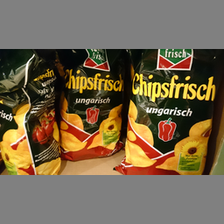chips: (127, 51, 217, 175), (60, 51, 124, 163), (1, 56, 59, 175)
